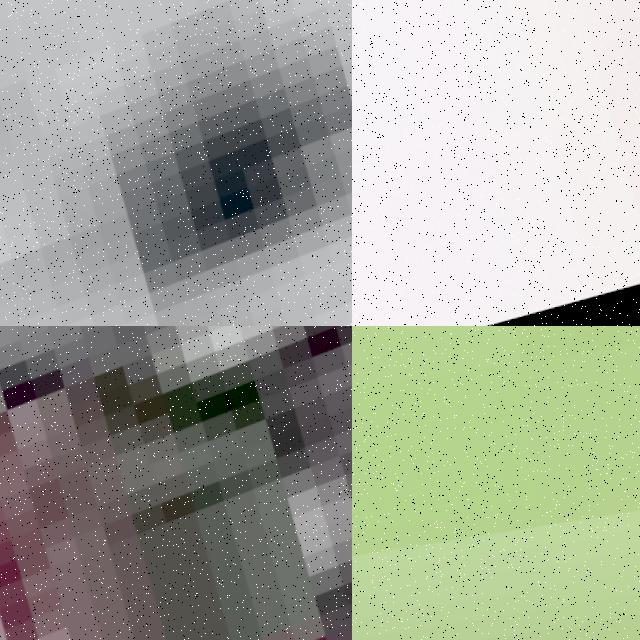0: (0, 0, 352, 326), (0, 326, 352, 640)
drone: (352, 0, 640, 326)
